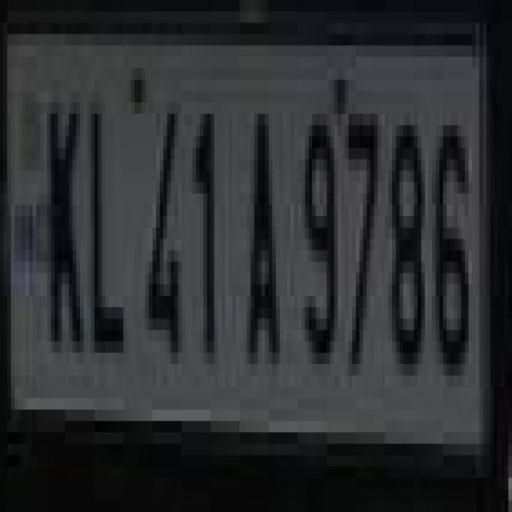number plate: (0, 34, 479, 467)
